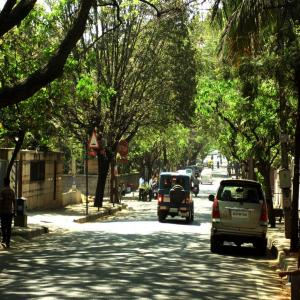Vehicle-registration-plate: (233, 212, 251, 218), (180, 214, 190, 217)
